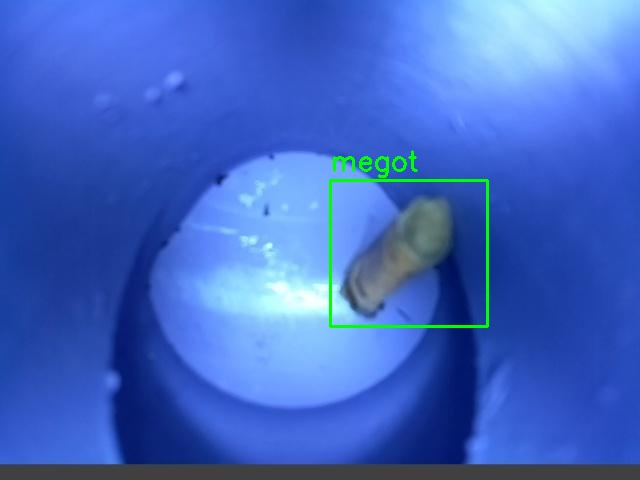megot: (330, 180, 487, 326)
